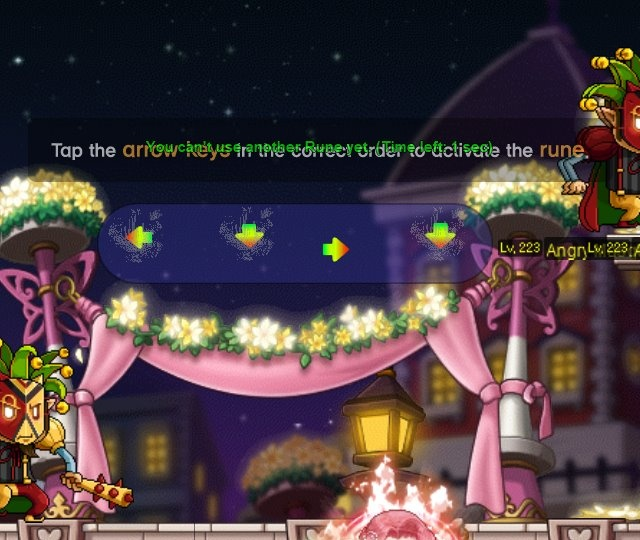down: (227, 216, 270, 256), (419, 216, 460, 256)
left: (119, 220, 162, 260)
right: (315, 232, 357, 272)
